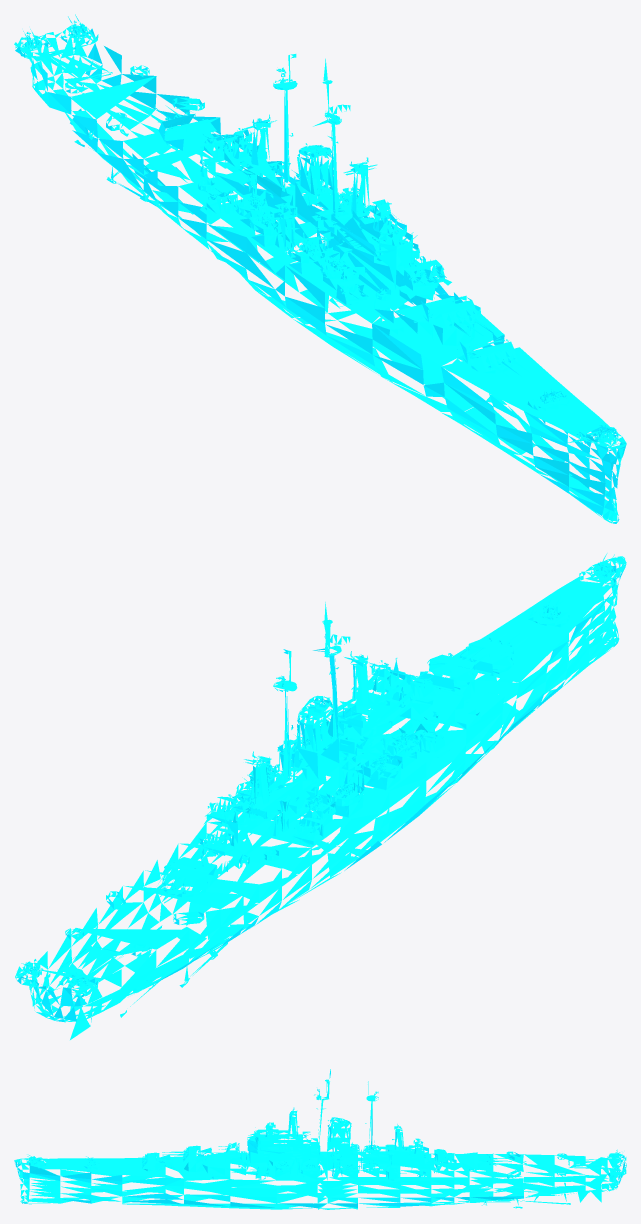
Rendered from PASC020.glb.
3 renders of one model, top to bottom at view 1: azimuth 30°, elevation 25°; view 2: azimuth 150°, elevation 25°; view 3: azimuth 270°, elevation 25°, orthographic. The views are drawn at different scales.
Visible parts, largest first — view 1: hull_mid, hull_bow, hull_stern, main_battery, secondary_battery, aa_mount, superstructure; view 2: hull_mid, hull_stern, hull_bow, main_battery, secondary_battery, aa_mount, superstructure; view 3: hull_mid, hull_bow, hull_stern, main_battery, secondary_battery, aa_mount, superstructure.
Part boxes in pixels (<box>): hull_mid: <box>158,54,504,411</box>; hull_bow: <box>421,334,626,523</box>; hull_stern: <box>14,25,258,224</box>; main_battery: <box>143,105,531,379</box>; secondary_battery: <box>202,131,446,304</box>; aa_mount: <box>21,14,615,442</box>; superstructure: <box>26,20,391,218</box>; hull_mid: <box>160,602,504,939</box>; hull_stern: <box>15,860,258,1039</box>; hull_bow: <box>431,556,626,753</box>; main_battery: <box>146,630,532,903</box>; secondary_battery: <box>202,672,445,855</box>; aa_mount: <box>21,553,614,988</box>; superstructure: <box>34,634,391,976</box>; hull_mid: <box>184,1069,456,1209</box>; hull_bow: <box>14,1156,183,1206</box>; hull_stern: <box>454,1151,626,1208</box>; main_battery: <box>128,1145,511,1170</box>; secondary_battery: <box>218,1142,455,1179</box>; aa_mount: <box>27,1139,624,1172</box>; superstructure: <box>265,1089,617,1164</box>.
Size of the model in its own units: 1.73 by 3.52 by 14.55.
